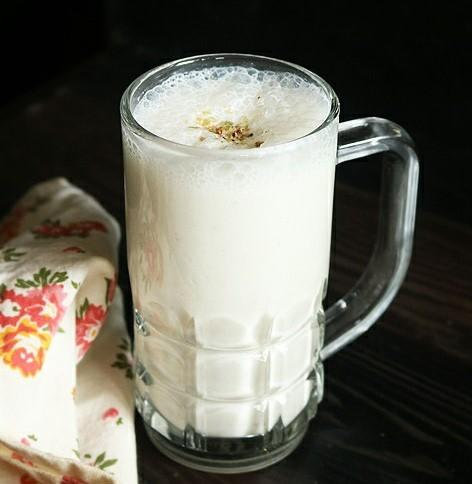Lassi: (122, 66, 340, 436)
